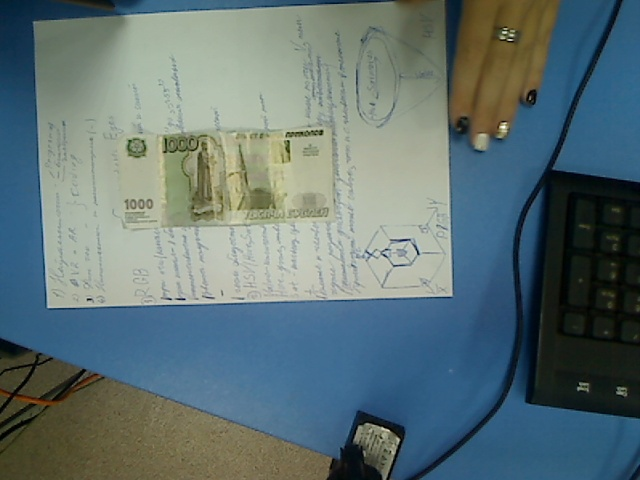banknotes: (116, 124, 339, 231)
